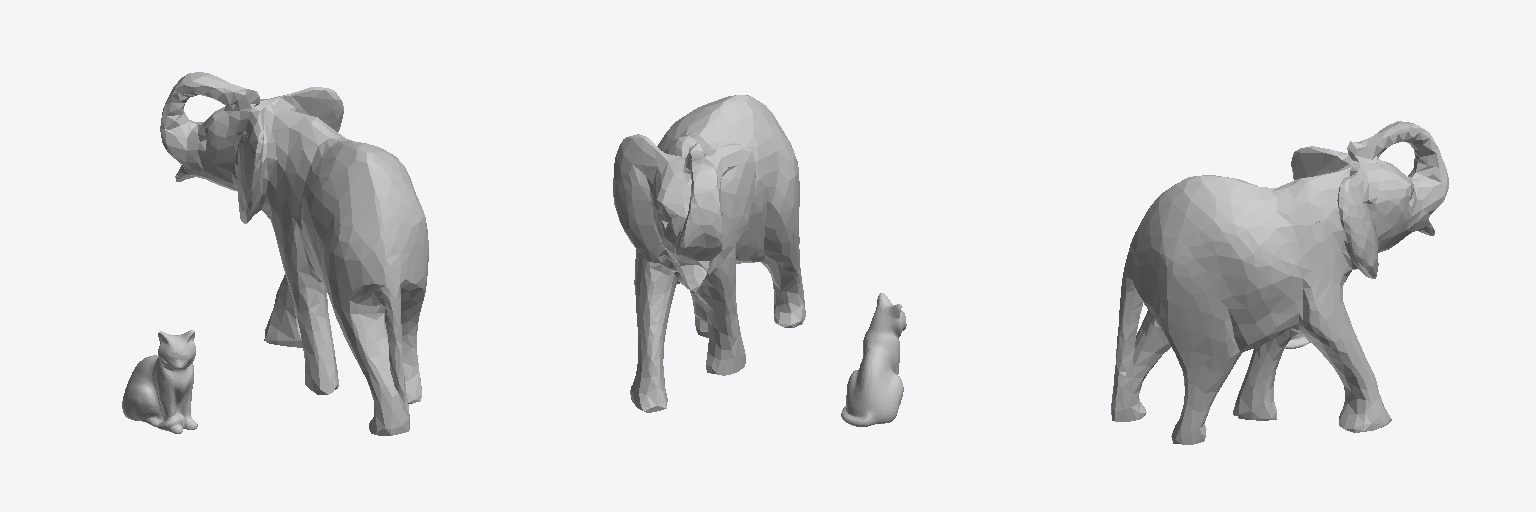
File: elephant_cat.obj
The picture shows the model from 3 angles: view 1: azimuth 30°, elevation 25°; view 2: azimuth 150°, elevation 25°; view 3: azimuth 270°, elevation 25°; orthographic projection.
Visible parts, largest first — view 1: carved_wooden_elephant, concrete_cat_statue; view 2: carved_wooden_elephant, concrete_cat_statue; view 3: carved_wooden_elephant.
Part boxes in pixels (bbox=[...]): carved_wooden_elephant: bbox=[160, 72, 428, 435]; concrete_cat_statue: bbox=[122, 330, 197, 433]; carved_wooden_elephant: bbox=[613, 95, 805, 412]; concrete_cat_statue: bbox=[841, 293, 906, 426]; carved_wooden_elephant: bbox=[1111, 121, 1448, 444].
Bounding box in the file's own units: 0.7743 × 0.7692 × 0.8735.